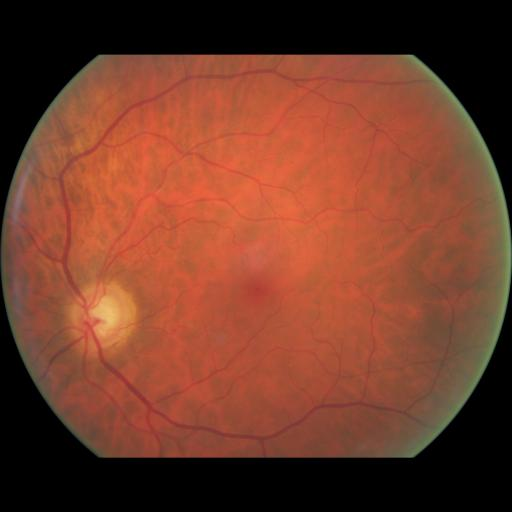Optic Cup: (81, 295, 121, 335)
Optic Disc: (66, 281, 138, 361)
